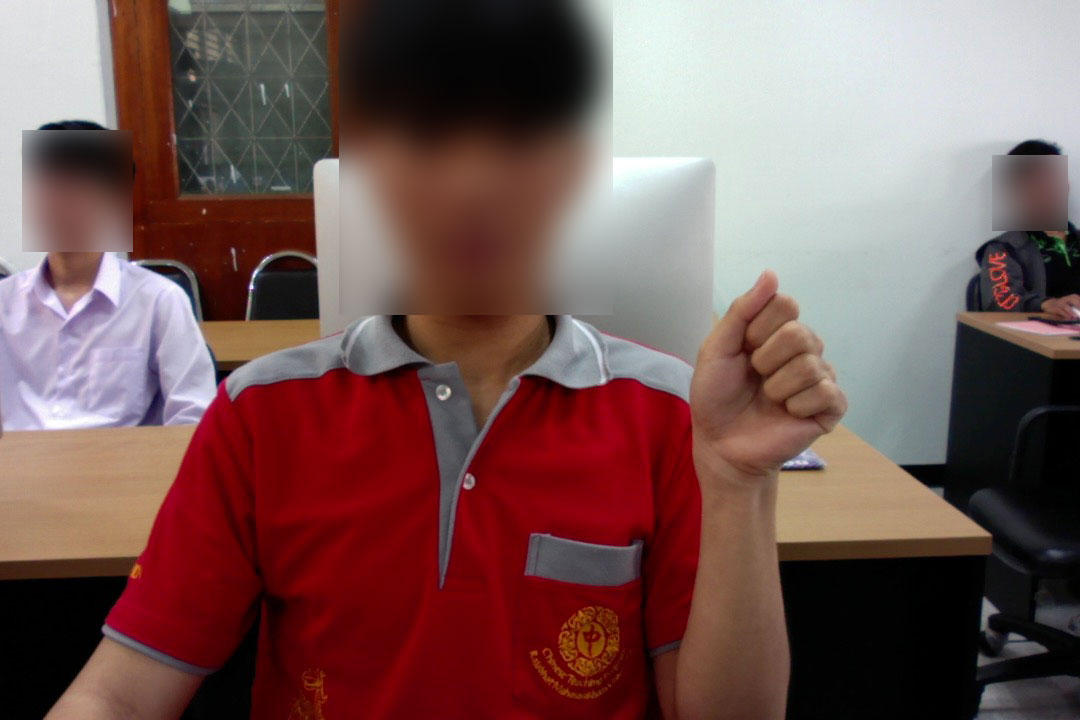or: (682, 262, 854, 492)
